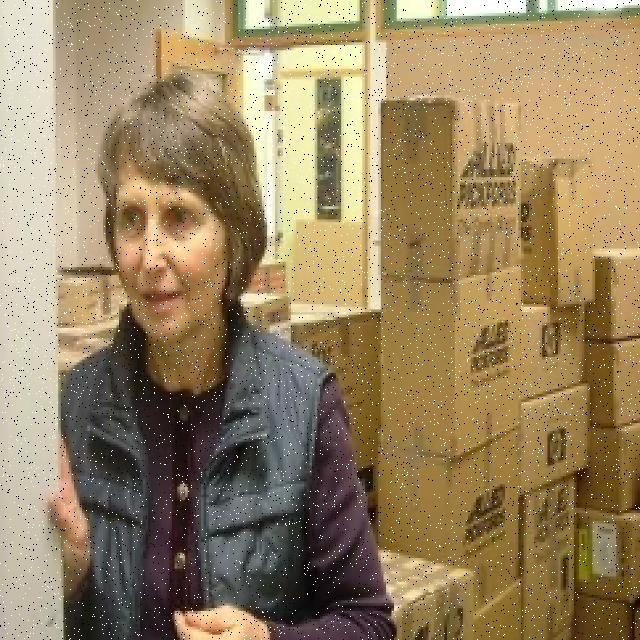box: (378, 98, 519, 276), (375, 441, 520, 601), (384, 278, 518, 450), (284, 286, 391, 466), (518, 158, 594, 306), (502, 385, 595, 488), (518, 489, 572, 640), (516, 302, 588, 391), (576, 505, 640, 597), (590, 230, 640, 333), (587, 421, 640, 518), (582, 333, 640, 413), (54, 266, 118, 317), (579, 590, 632, 640), (473, 603, 516, 640), (246, 292, 292, 325)
